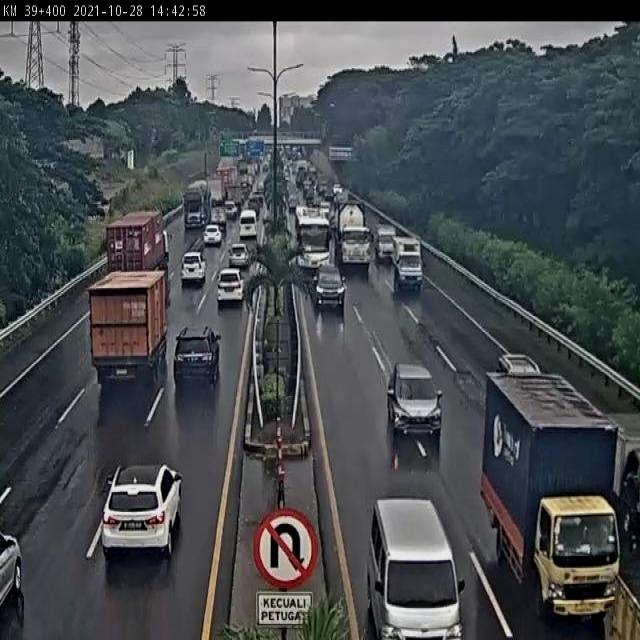Bus: (293, 205, 332, 272)
Car: (102, 463, 184, 559), (387, 363, 444, 440), (173, 324, 221, 389), (0, 529, 22, 615), (313, 263, 347, 312), (216, 267, 246, 306), (496, 352, 540, 376), (180, 252, 207, 286), (228, 242, 250, 268), (203, 224, 223, 246), (224, 200, 238, 220), (247, 197, 260, 214), (332, 184, 343, 198)
Truck: (479, 370, 622, 625), (86, 268, 170, 386), (603, 412, 640, 538), (103, 208, 173, 272), (332, 194, 372, 268), (391, 236, 424, 294), (182, 179, 212, 229), (374, 222, 398, 264), (211, 204, 228, 232), (226, 183, 243, 210), (210, 176, 226, 204), (214, 166, 233, 186)
Van: (367, 497, 464, 637), (239, 208, 258, 240)
